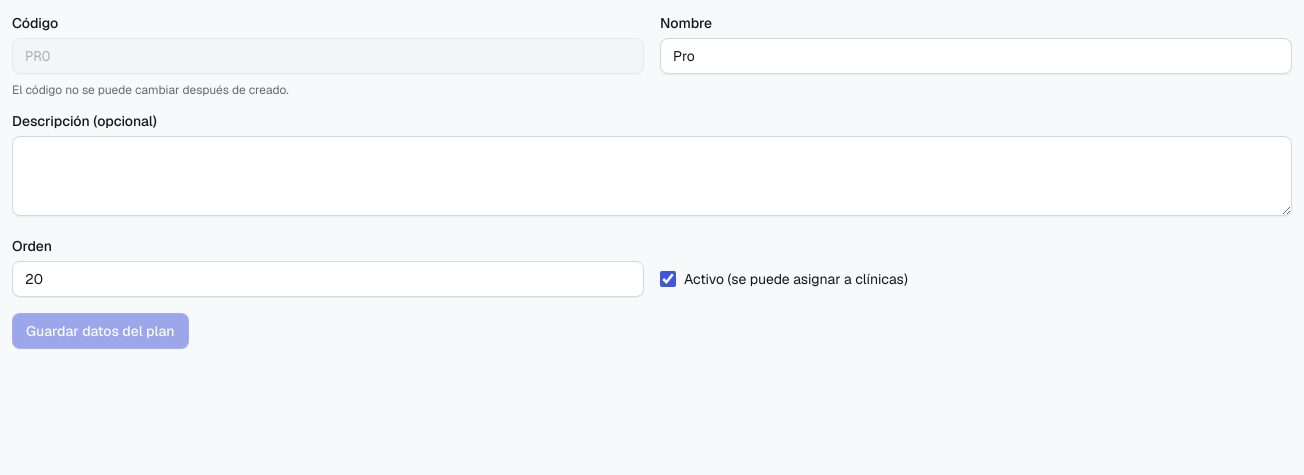
Test case: PlanForm › VERSION_CONFLICT: avisa, recarga, conserva lo editado y permite descartar
Replace the text in the field labelled "Nombre" with "Pro nuevo". click: [976, 56]
box: [660,38,1292,74]
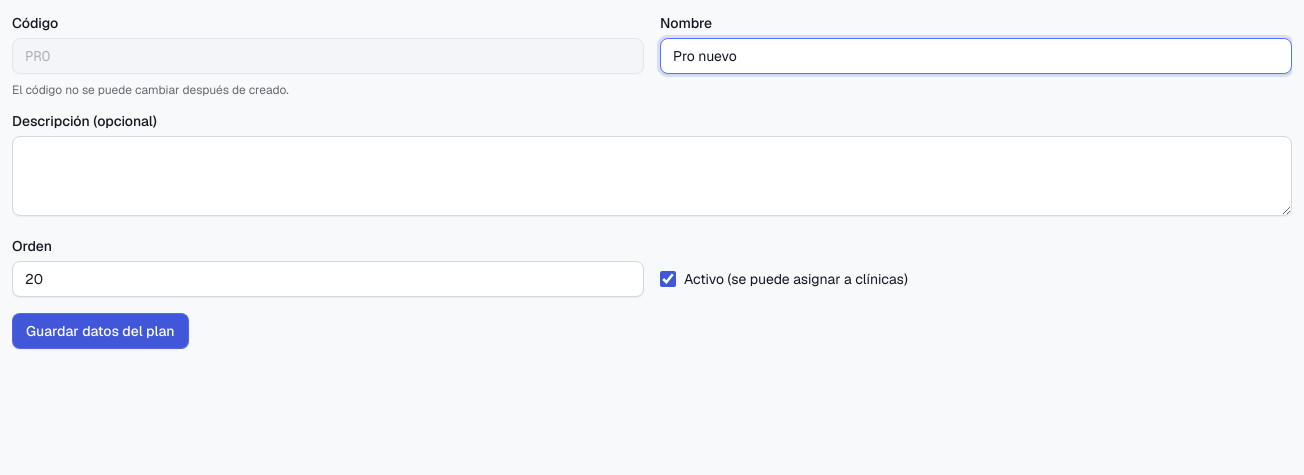
Click the button "Guardar datos del plan". click: [100, 331]
box: [12,313,189,349]
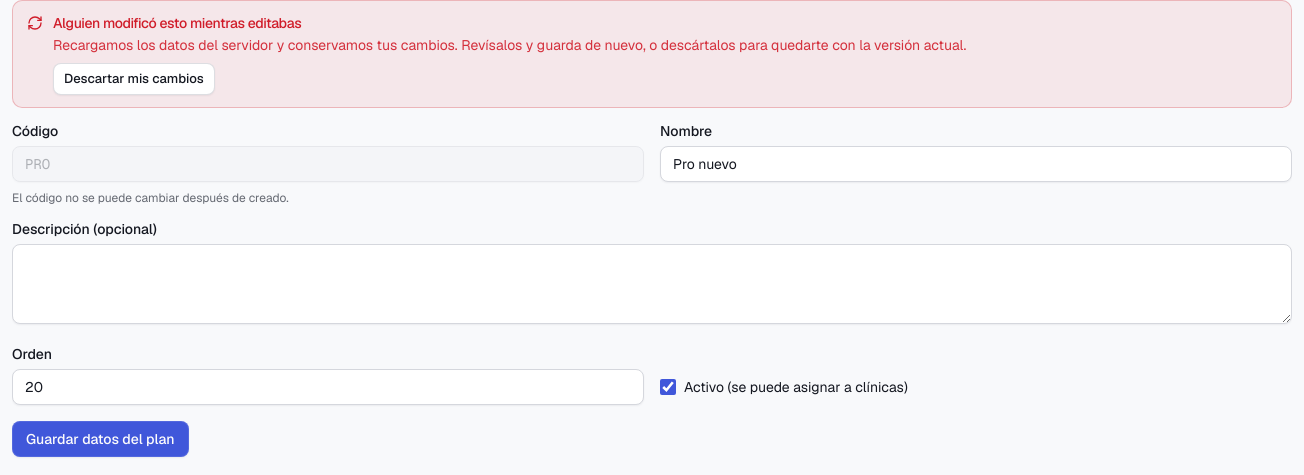
Result: the text "Alguien modificó esto mientras editabas" is shown at [53,14,301,32]
Click the button "Descartar mis cambios". click: [134, 79]
box: [53,63,215,95]
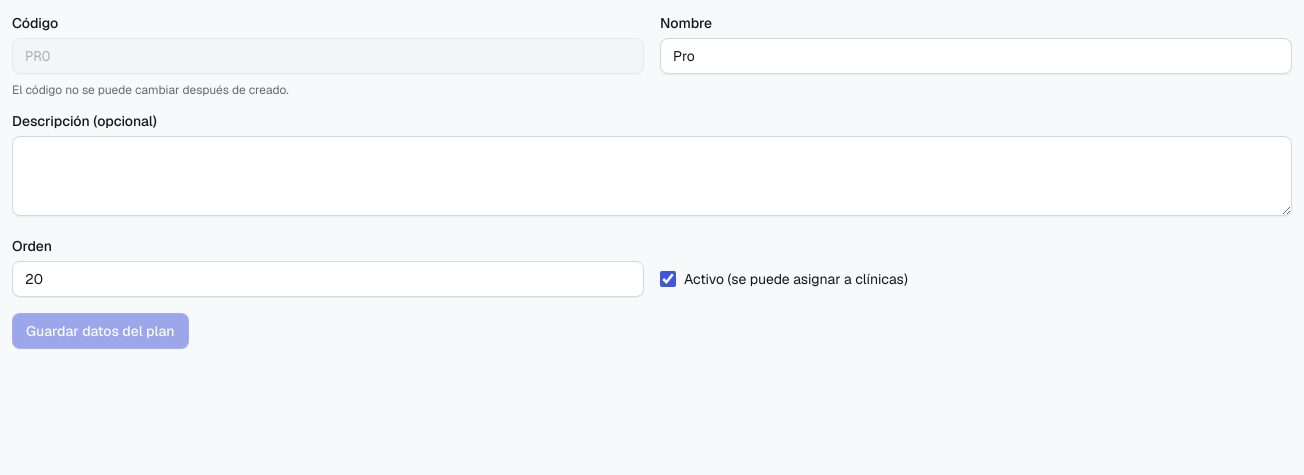
Result: the field labelled "Nombre" holds "Pro" at [660,38,1292,74]
Result: the message with test id "version-conflict" is gone
